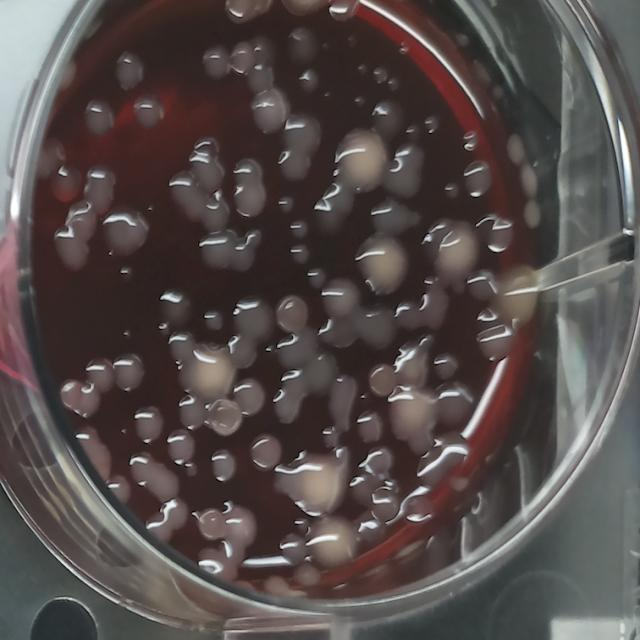Bacillus: (332, 122, 394, 197), (172, 340, 238, 408), (284, 452, 344, 523), (355, 229, 413, 302), (426, 218, 482, 288), (489, 261, 540, 335), (384, 382, 438, 448), (304, 514, 361, 575), (320, 275, 362, 327), (207, 395, 244, 439), (274, 293, 310, 336), (371, 98, 407, 140), (196, 507, 226, 542)
